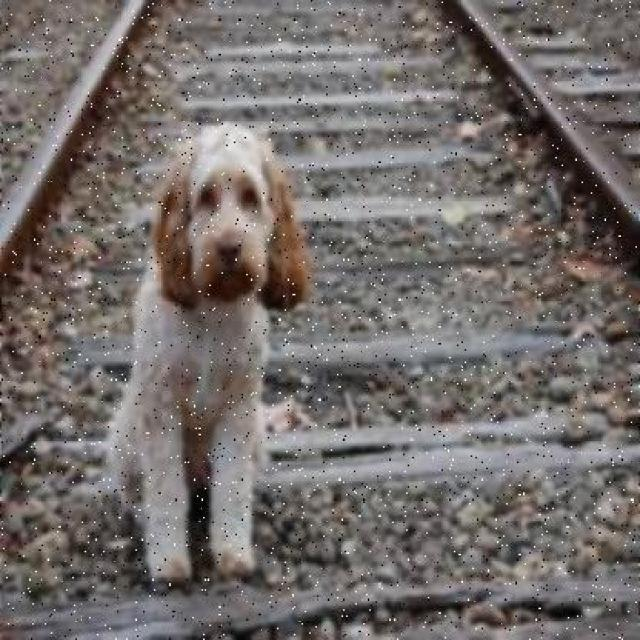danger: (99, 131, 308, 618)
rail: (2, 0, 637, 640)
